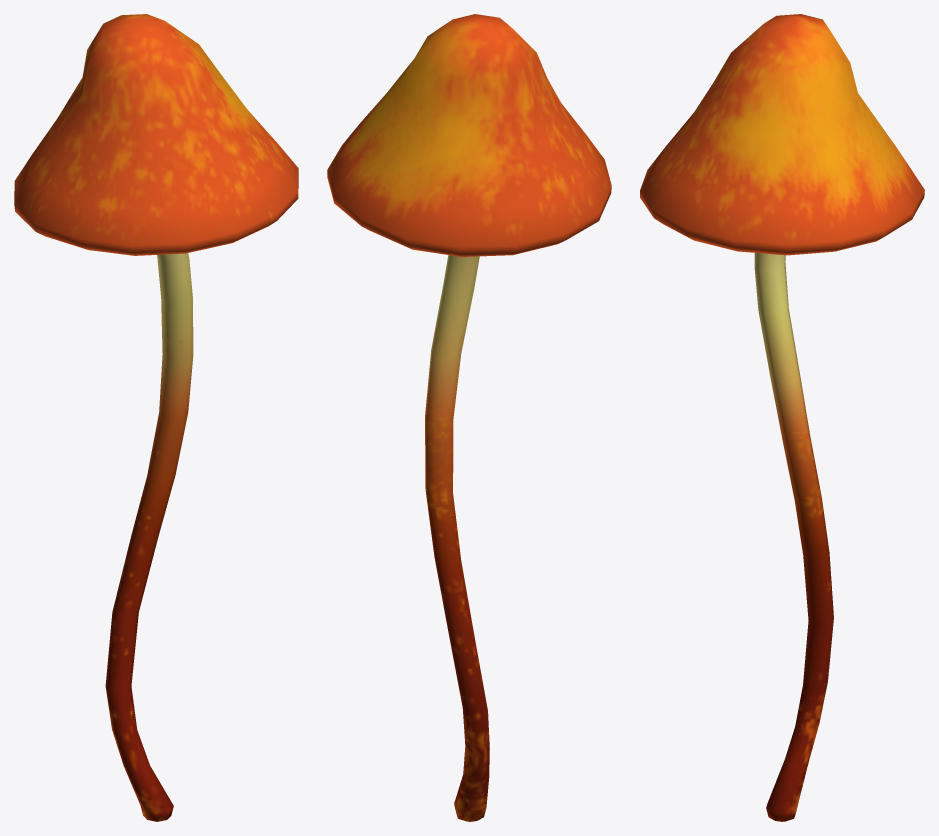
Rendered from Cartoon Seaweed_13-1-31.fbx.
3 renders of one model, left to right at view 1: azimuth 30°, elevation 25°; view 2: azimuth 150°, elevation 25°; view 3: azimuth 270°, elevation 25°, orthographic.
Parts seen in each view (by area): view 1: Cartoon Seaweed_13.1.31; view 2: Cartoon Seaweed_13.1.31; view 3: Cartoon Seaweed_13.1.31.
Boxes of the visible parts, x1=… form: Cartoon Seaweed_13.1.31: x1=14, y1=14, x2=298, y2=821; Cartoon Seaweed_13.1.31: x1=327, y1=14, x2=611, y2=821; Cartoon Seaweed_13.1.31: x1=640, y1=14, x2=924, y2=821.
Size of the model in its own units: 4.24 by 13.07 by 4.23.
1 material, 1 textured.
